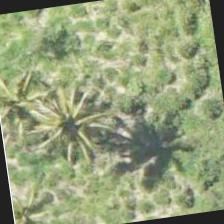Kelapa_Sawit: (21, 72, 123, 174), (0, 66, 64, 164)
